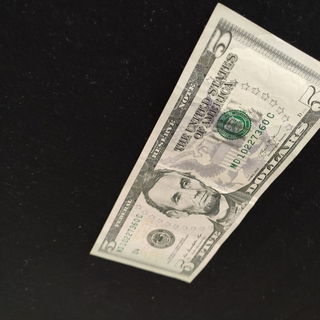5USDFront: (89, 3, 320, 284)
